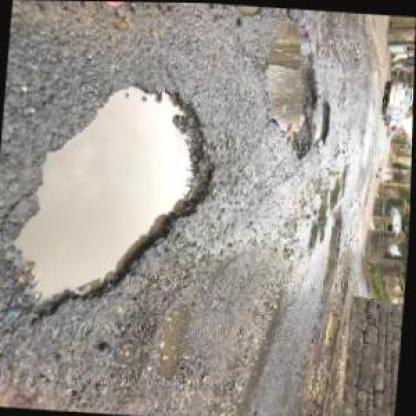pothole: (3, 74, 226, 330), (260, 13, 324, 162), (153, 301, 194, 383), (315, 99, 334, 146), (232, 6, 260, 15)
